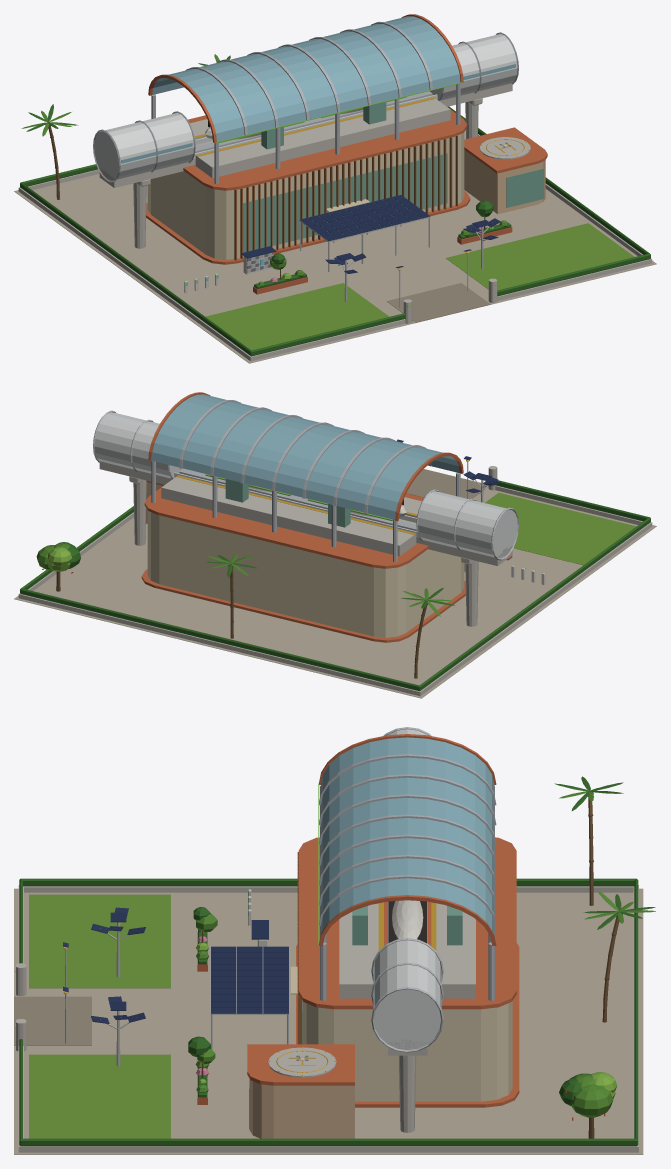
File: station.glb
The picture shows the model from 3 angles, top to bottom: view 1: azimuth 30°, elevation 25°; view 2: azimuth 150°, elevation 25°; view 3: azimuth 270°, elevation 25°; orthographic projection. The views are drawn at different scales.
Visible parts, largest first — view 1: body, windows; view 2: body; view 3: body, windows.
Part boxes in pixels (x1,y1,x2,y2): body: (14, 14, 656, 363); windows: (185, 82, 529, 306); body: (14, 392, 656, 698); body: (14, 727, 655, 1154); windows: (15, 783, 426, 1075).
Size of the model in its own units: 49.19 by 17.39 by 48.93.
